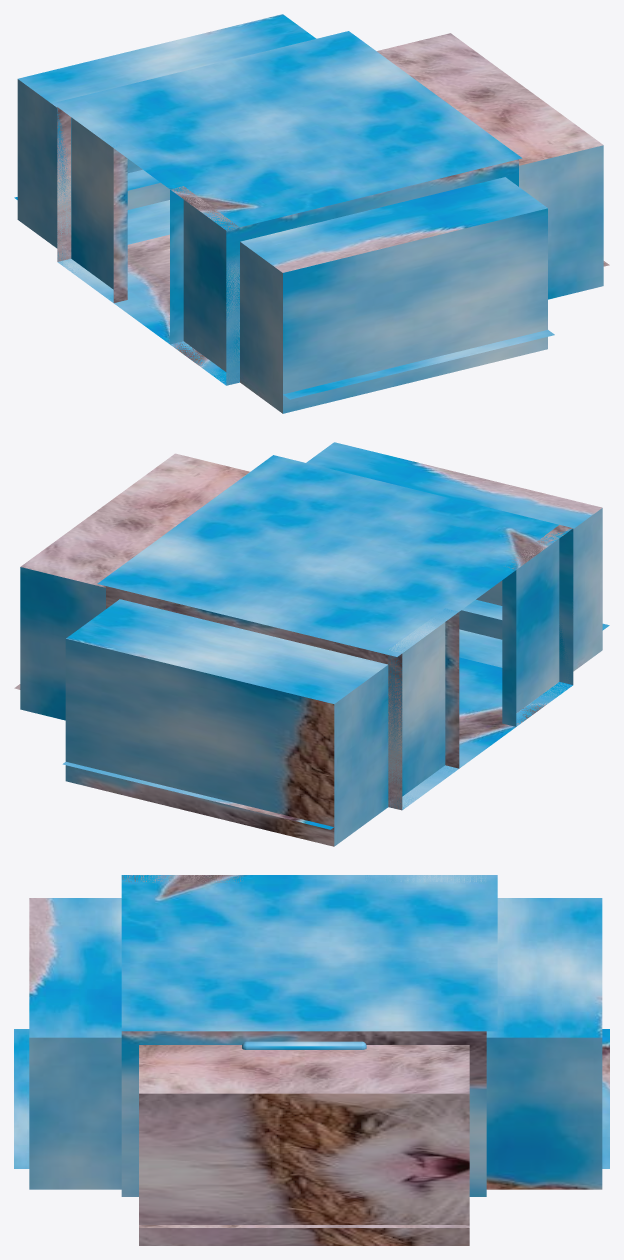
File: ursoutp.fbx
3 views of the same model, one above another, from view 1: azimuth 30°, elevation 25°; view 2: azimuth 150°, elevation 25°; view 3: azimuth 270°, elevation 25° (orthographic). The views are drawn at different scales.
Visible parts, largest first — view 1: Plane; view 2: Plane; view 3: Plane.
Part boxes in pixels (left/top/right/bottom): Plane: left=14, top=14, right=609, bottom=413; Plane: left=14, top=442, right=609, bottom=846; Plane: left=14, top=875, right=609, bottom=1245.
Bounding box in the file's own units: 2113 × 801 × 2580.
